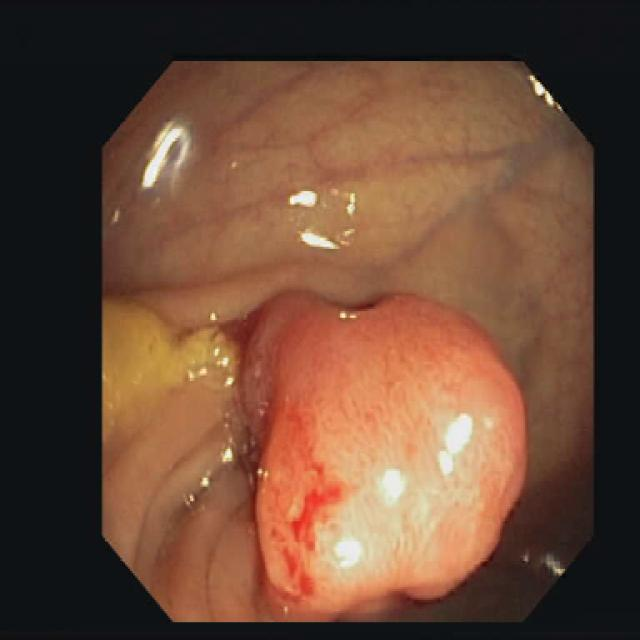tumor: (245, 293, 525, 620)
